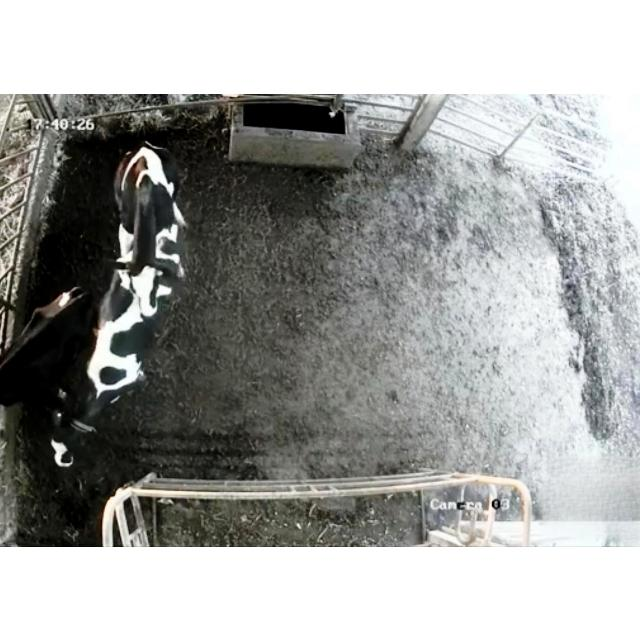ride: (100, 135, 206, 325)
